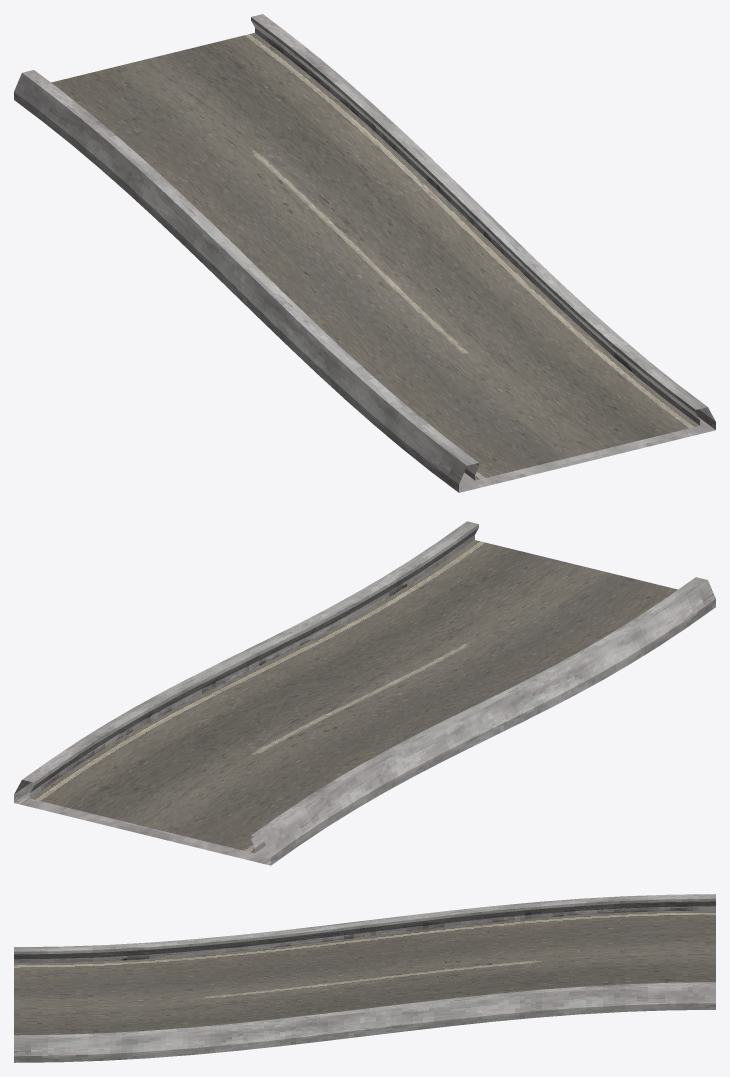
Rendered from straight3.glb.
3 renders of one model, top to bottom at view 1: azimuth 30°, elevation 25°; view 2: azimuth 150°, elevation 25°; view 3: azimuth 270°, elevation 25°, orthographic. The views are drawn at different scales.
Visible parts, largest first — view 1: road-Straight-Flat-Flat-Up1-Center-Size3; view 2: road-Straight-Flat-Flat-Up1-Center-Size3; view 3: road-Straight-Flat-Flat-Up1-Center-Size3.
Part boxes in pixels (x1,y1,x2,y2): road-Straight-Flat-Flat-Up1-Center-Size3: [14, 14, 715, 492]; road-Straight-Flat-Flat-Up1-Center-Size3: [14, 521, 715, 865]; road-Straight-Flat-Flat-Up1-Center-Size3: [14, 894, 715, 1062].
Bounding box in the file's own units: 1 × 0.3438 × 3.
Materials: 2 (2 with a texture image).
